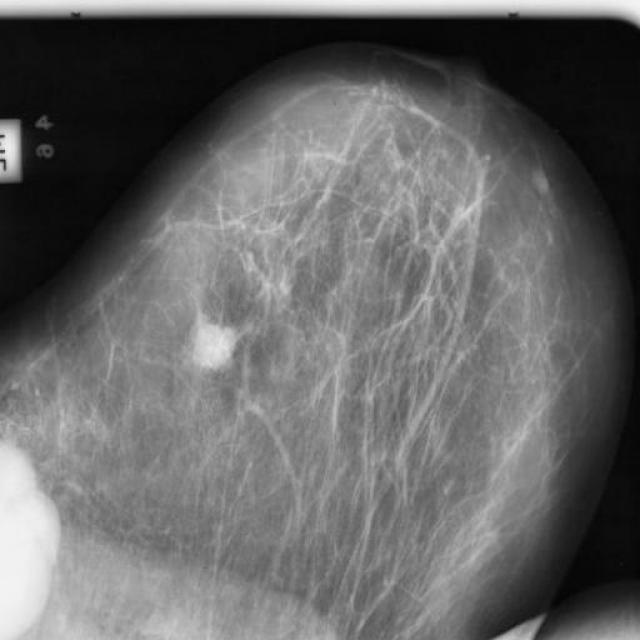cancer: (181, 310, 251, 372)
